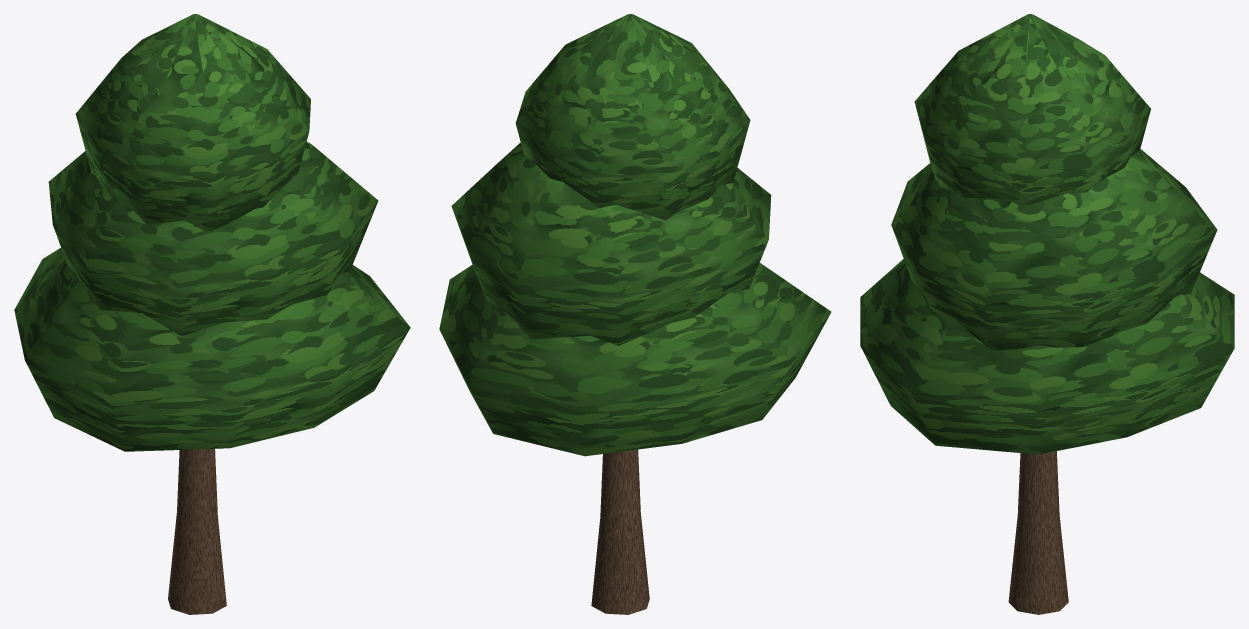
Rendered from tree.obj.
3 views of the same model, side by side, from view 1: azimuth 30°, elevation 25°; view 2: azimuth 150°, elevation 25°; view 3: azimuth 270°, elevation 25° (orthographic).
Visible parts, largest first — view 1: tree_canopy, tree_trunk; view 2: tree_canopy, tree_trunk; view 3: tree_canopy, tree_trunk.
Part boxes in pixels (x1,y1,x2,y2): tree_canopy: (14,14,410,451); tree_trunk: (168,448,226,614); tree_canopy: (439,14,831,456); tree_trunk: (591,449,649,614); tree_canopy: (860,14,1234,454); tree_trunk: (1008,451,1068,614).
Bounding box in the file's own units: 4.7 × 7.7 × 4.47.
2 materials, 2 textured.
